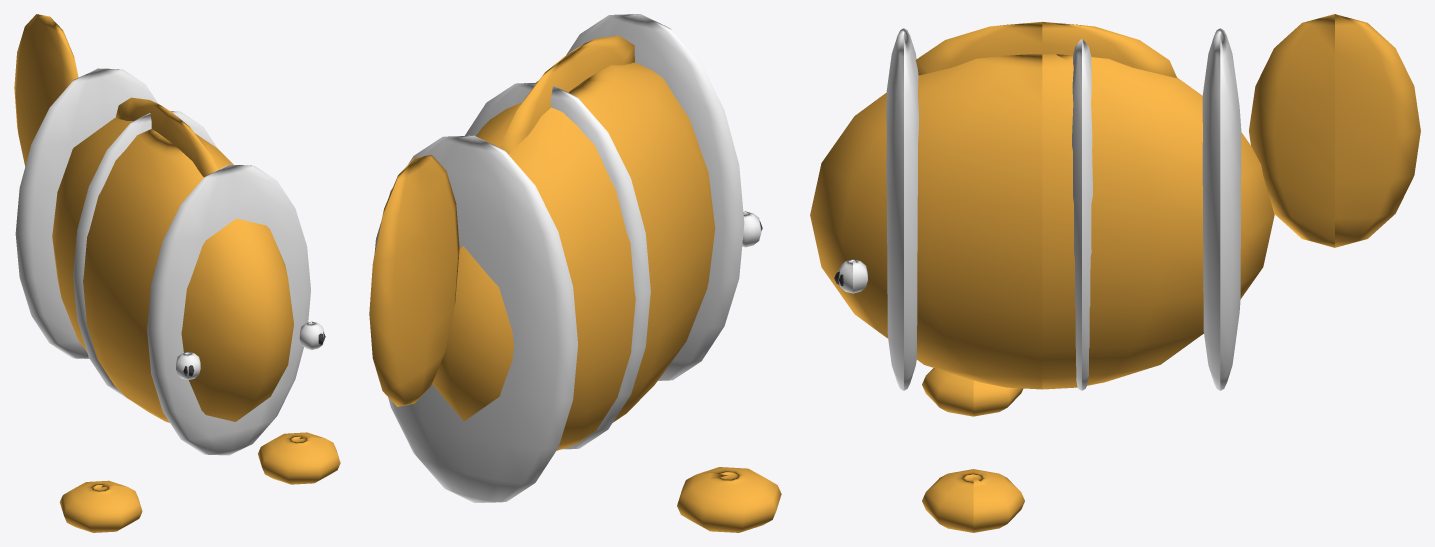
The model's file is eefa5e15-8a71-4a62-9316-1676ff24635b.glb.
3 views of the same model, side by side, from view 1: azimuth 30°, elevation 25°; view 2: azimuth 150°, elevation 25°; view 3: azimuth 270°, elevation 25° (orthographic). The views are drawn at different scales.
Visible parts, largest first — view 1: Generated3DMesh; view 2: Generated3DMesh; view 3: Generated3DMesh.
Part boxes in pixels (x1,y1,x2,y2): Generated3DMesh: [14, 14, 340, 532]; Generated3DMesh: [369, 14, 781, 532]; Generated3DMesh: [810, 14, 1420, 532].
Size of the model in its own units: 1.1 by 1.45 by 1.78.
